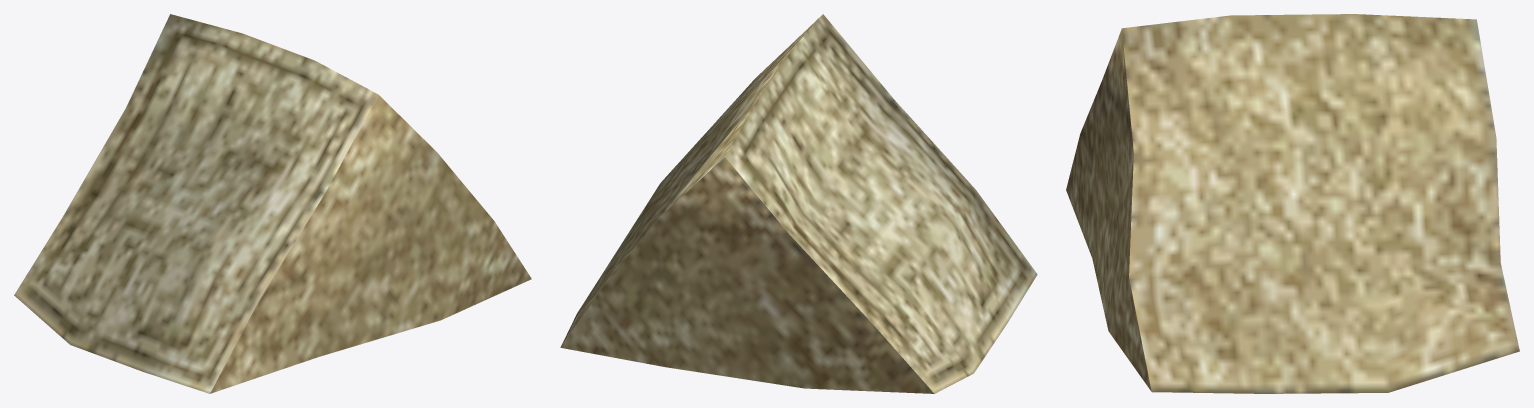
Rendered from ob-bigstone02.fbx.
The picture shows the model from 3 angles, left to right: view 1: azimuth 30°, elevation 25°; view 2: azimuth 150°, elevation 25°; view 3: azimuth 270°, elevation 25°; orthographic projection. The views are drawn at different scales.
Visible parts, largest first — view 1: Box01; view 2: Box01; view 3: Box01.
Boxes of the visible parts, bbox=[...] form: Box01: bbox=[14, 14, 531, 393]; Box01: bbox=[560, 14, 1037, 393]; Box01: bbox=[1066, 14, 1519, 393].
Size of the model in its own units: 4.5 by 2.7 by 3.79.
